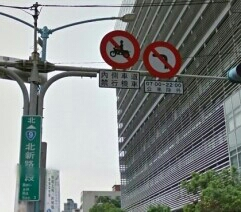No_left_turn: (143, 40, 181, 79)
